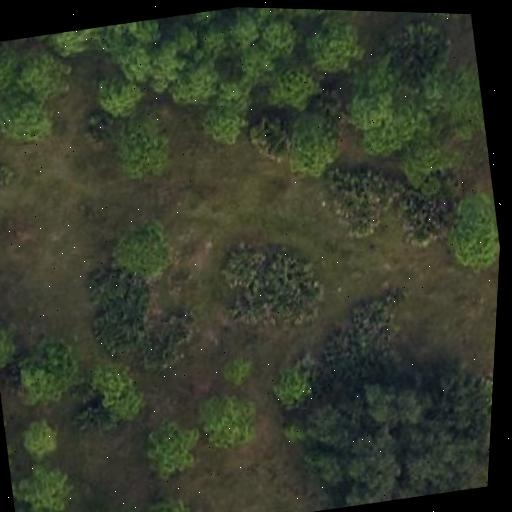tree-top: (279, 360, 494, 512), (213, 227, 335, 337), (373, 11, 459, 102), (430, 180, 503, 283), (390, 127, 480, 202), (103, 209, 182, 287), (2, 331, 79, 408), (80, 347, 151, 430), (189, 378, 266, 453), (277, 107, 351, 185), (140, 409, 213, 480), (5, 450, 80, 512), (296, 15, 366, 80), (9, 44, 79, 105), (109, 120, 174, 183), (261, 353, 323, 417), (258, 53, 323, 114), (0, 84, 60, 149), (442, 69, 490, 144), (193, 92, 253, 151), (341, 76, 399, 137), (162, 53, 220, 112), (91, 65, 148, 118), (254, 10, 308, 64), (210, 6, 269, 54), (15, 411, 60, 460), (114, 40, 160, 85), (123, 486, 194, 512), (216, 345, 255, 389), (0, 313, 16, 376), (0, 54, 16, 97), (67, 503, 130, 512)
